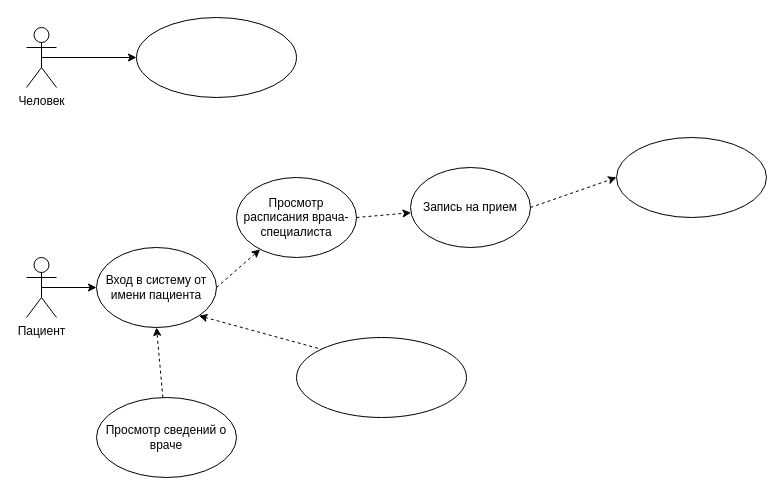
The diagram is 784 pixels wide and 495 high, and some of its shapes have lost their labels. The centre of each missing label's shape, as x and y in pixels:
"Зарегистрироваться" belongs at (216,57).
"Повторная запись на прием к врачу" belongs at (691,177).
"Связь с администратором по техническим вопросам" belongs at (381,377).
